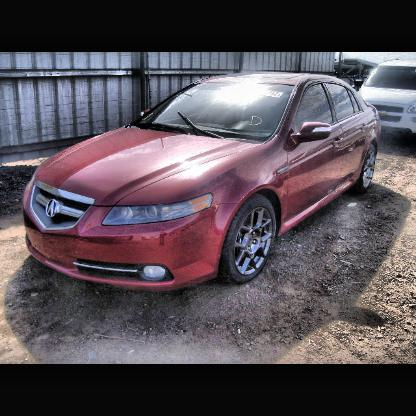Acura TL Type-S 2008: (21, 70, 384, 295)
